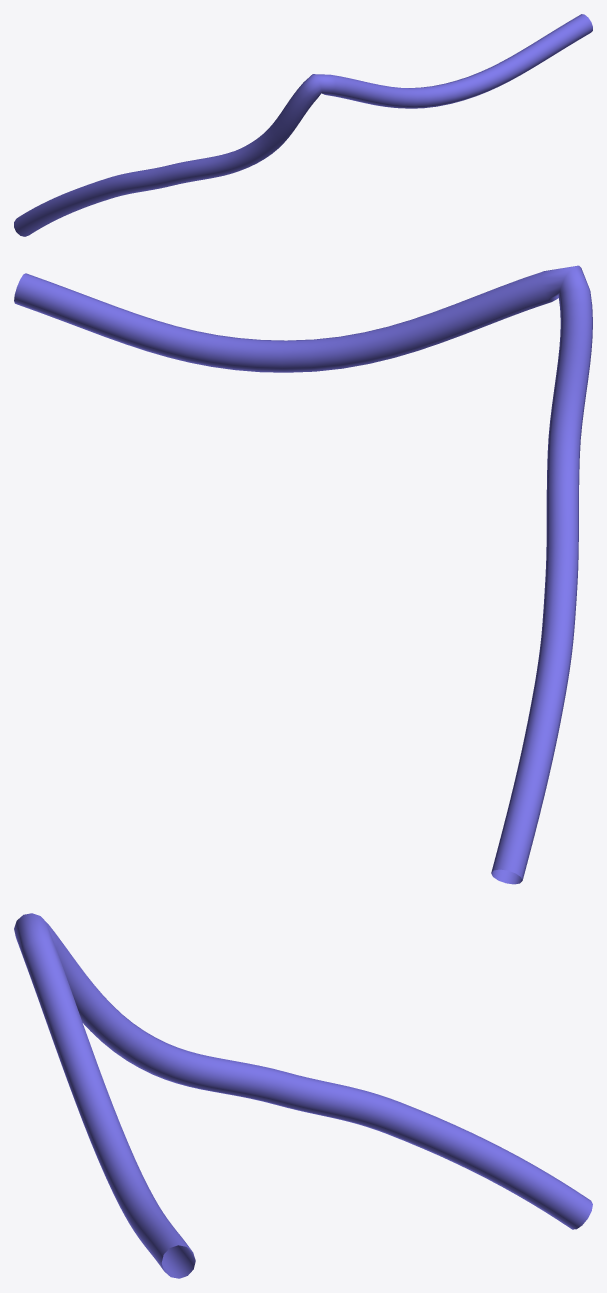
Rendered from Plantar_venous_arch.r_BezierCurve.480.glb.
3 renders of one model, top to bottom at view 1: azimuth 30°, elevation 25°; view 2: azimuth 150°, elevation 25°; view 3: azimuth 270°, elevation 25°, orthographic. The views are drawn at different scales.
Parts seen in each view (by area): view 1: Plantar_venous_arch.r_BezierCurve.480; view 2: Plantar_venous_arch.r_BezierCurve.480; view 3: Plantar_venous_arch.r_BezierCurve.480.
Boxes of the visible parts, x1,y1,x2,y2 form: Plantar_venous_arch.r_BezierCurve.480: (14, 14, 592, 236); Plantar_venous_arch.r_BezierCurve.480: (14, 265, 592, 884); Plantar_venous_arch.r_BezierCurve.480: (14, 913, 592, 1278).
Bounding box in the file's own units: 0.0444 × 0.0237 × 0.0301.
